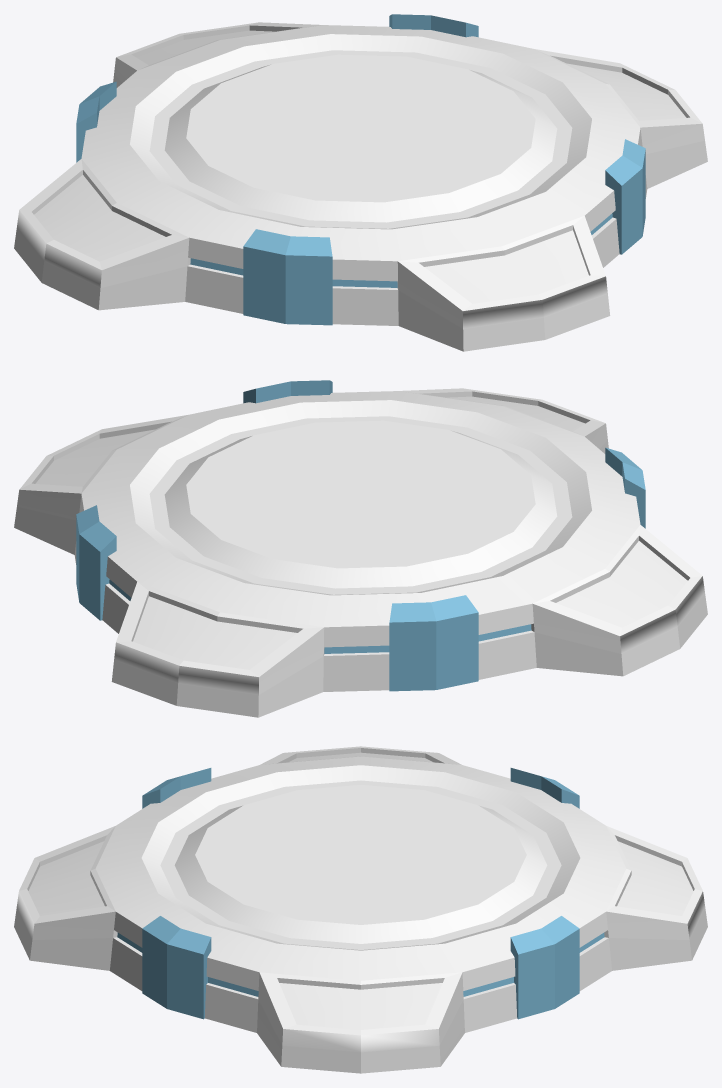
Rendered from Props_Base.002.fbx.
The picture shows the model from 3 angles, top to bottom: view 1: azimuth 30°, elevation 25°; view 2: azimuth 150°, elevation 25°; view 3: azimuth 270°, elevation 25°; orthographic projection. The views are drawn at different scales.
Parts seen in each view (by area): view 1: Props_Base.002; view 2: Props_Base.002; view 3: Props_Base.002.
Boxes of the visible parts, x1,y1,x2,y2 form: Props_Base.002: (14,14,707,351); Props_Base.002: (14,380,707,717); Props_Base.002: (14,746,707,1073).
Bounding box in the file's own units: 2.4 × 0.2841 × 2.4.
